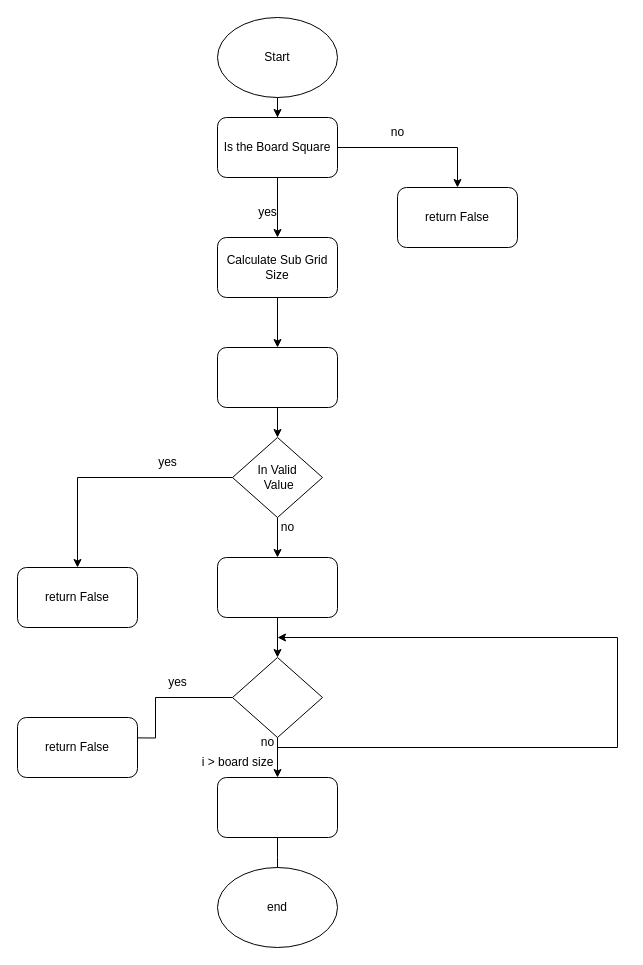
Some shapes in this 643 by 965 pixel diagram are drawn without their labels. The box of each missing label's shape, as (x1, y1, x2, y2) in pixels:
Any Duplicates: (232, 656, 322, 738)
Define Valid Range: (216, 346, 338, 408)
initialize Sets for row, column and subGrid: (216, 556, 338, 618)
return true: (216, 776, 338, 838)
